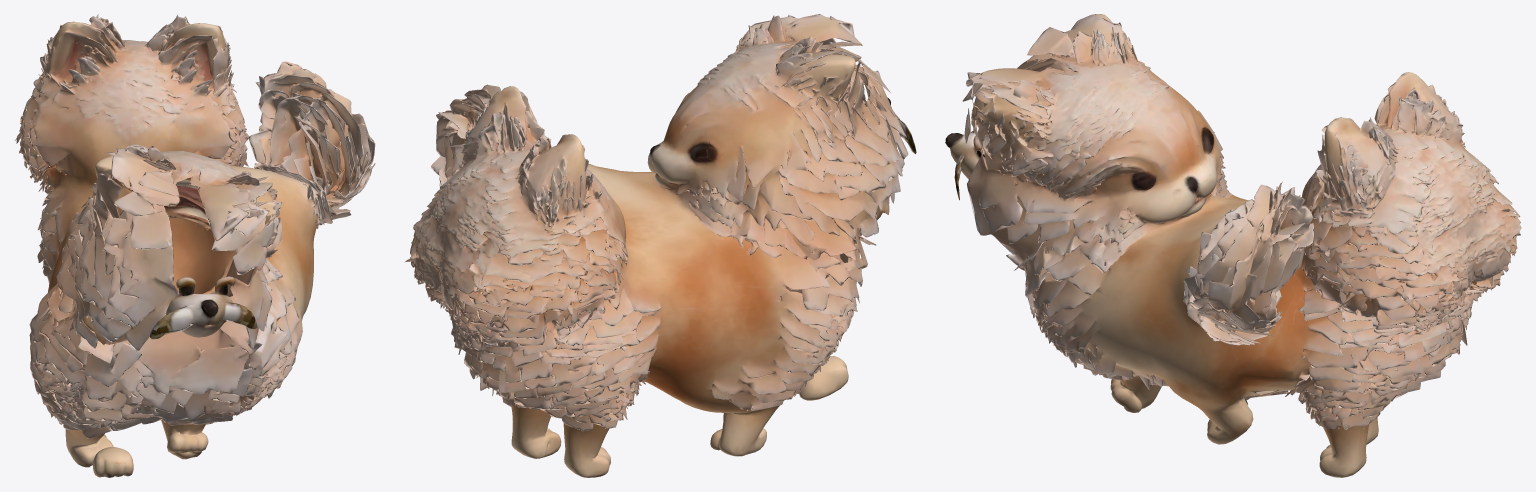
The model's file is miu_static.glb.
3 views of the same model, side by side, from view 1: azimuth 30°, elevation 25°; view 2: azimuth 150°, elevation 25°; view 3: azimuth 270°, elevation 25° (orthographic). The views are drawn at different scales.
Parts seen in each view (by area): view 1: world; view 2: world; view 3: world.
Boxes of the visible parts, box(x1,y1,x2,y2) form: world: box(15, 14, 375, 477); world: box(404, 14, 916, 477); world: box(945, 14, 1521, 477).
Size of the model in its own units: 0.7552 by 0.7112 by 0.999.
1 material, 1 textured.
